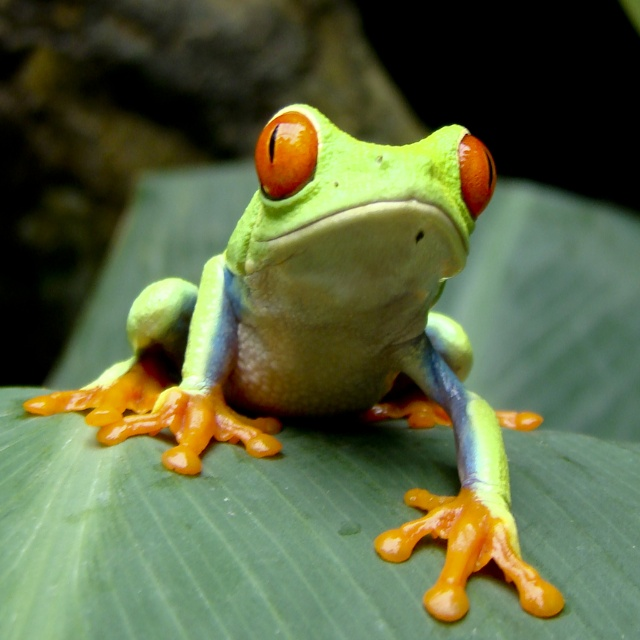Frog: (22, 103, 565, 622)
